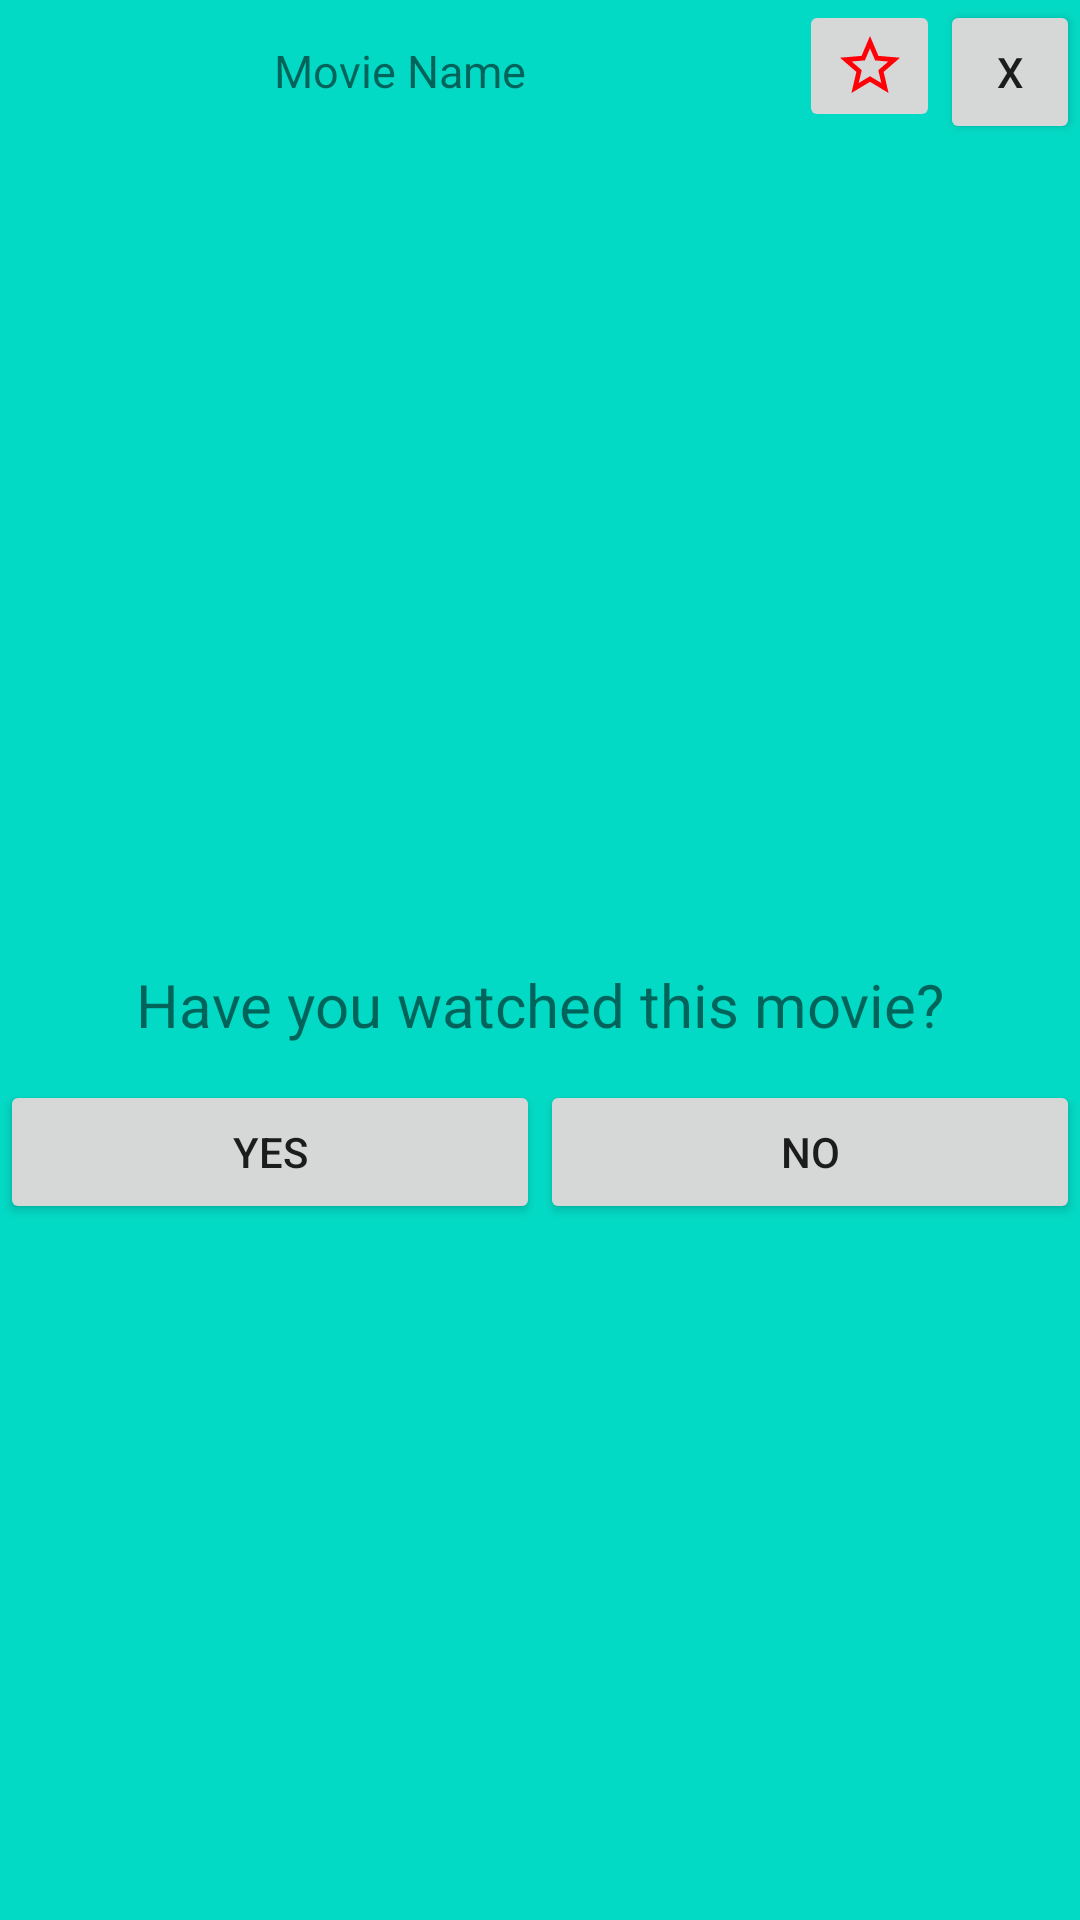

Where to tap for icons on this 1080px x 1920px app screen, as (x,y):
star border: (869,66)
